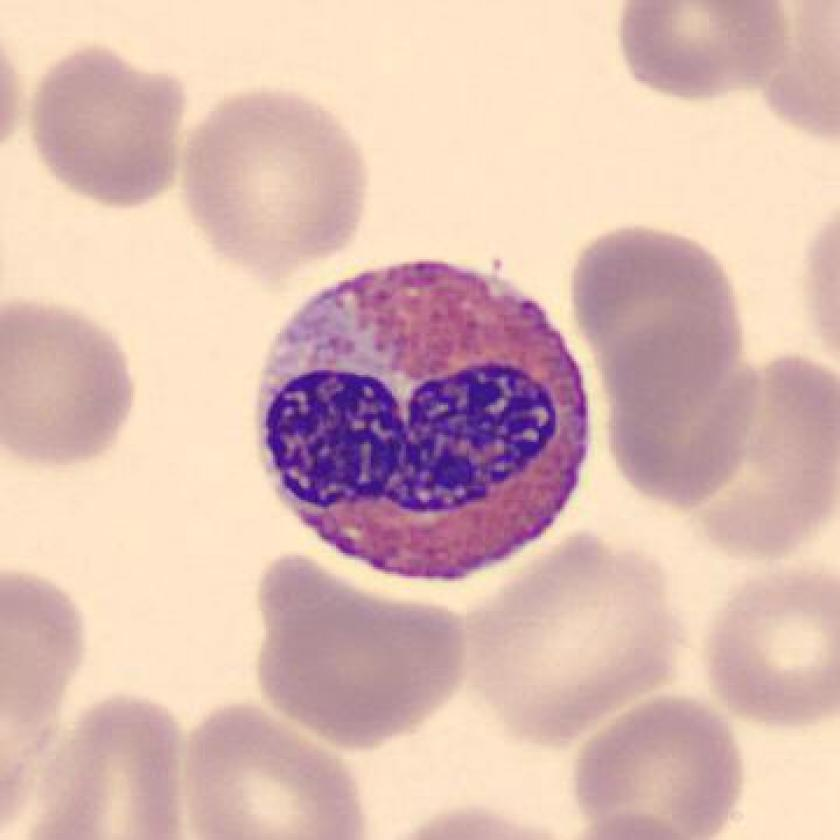eosinophil: (246, 251, 603, 593)
